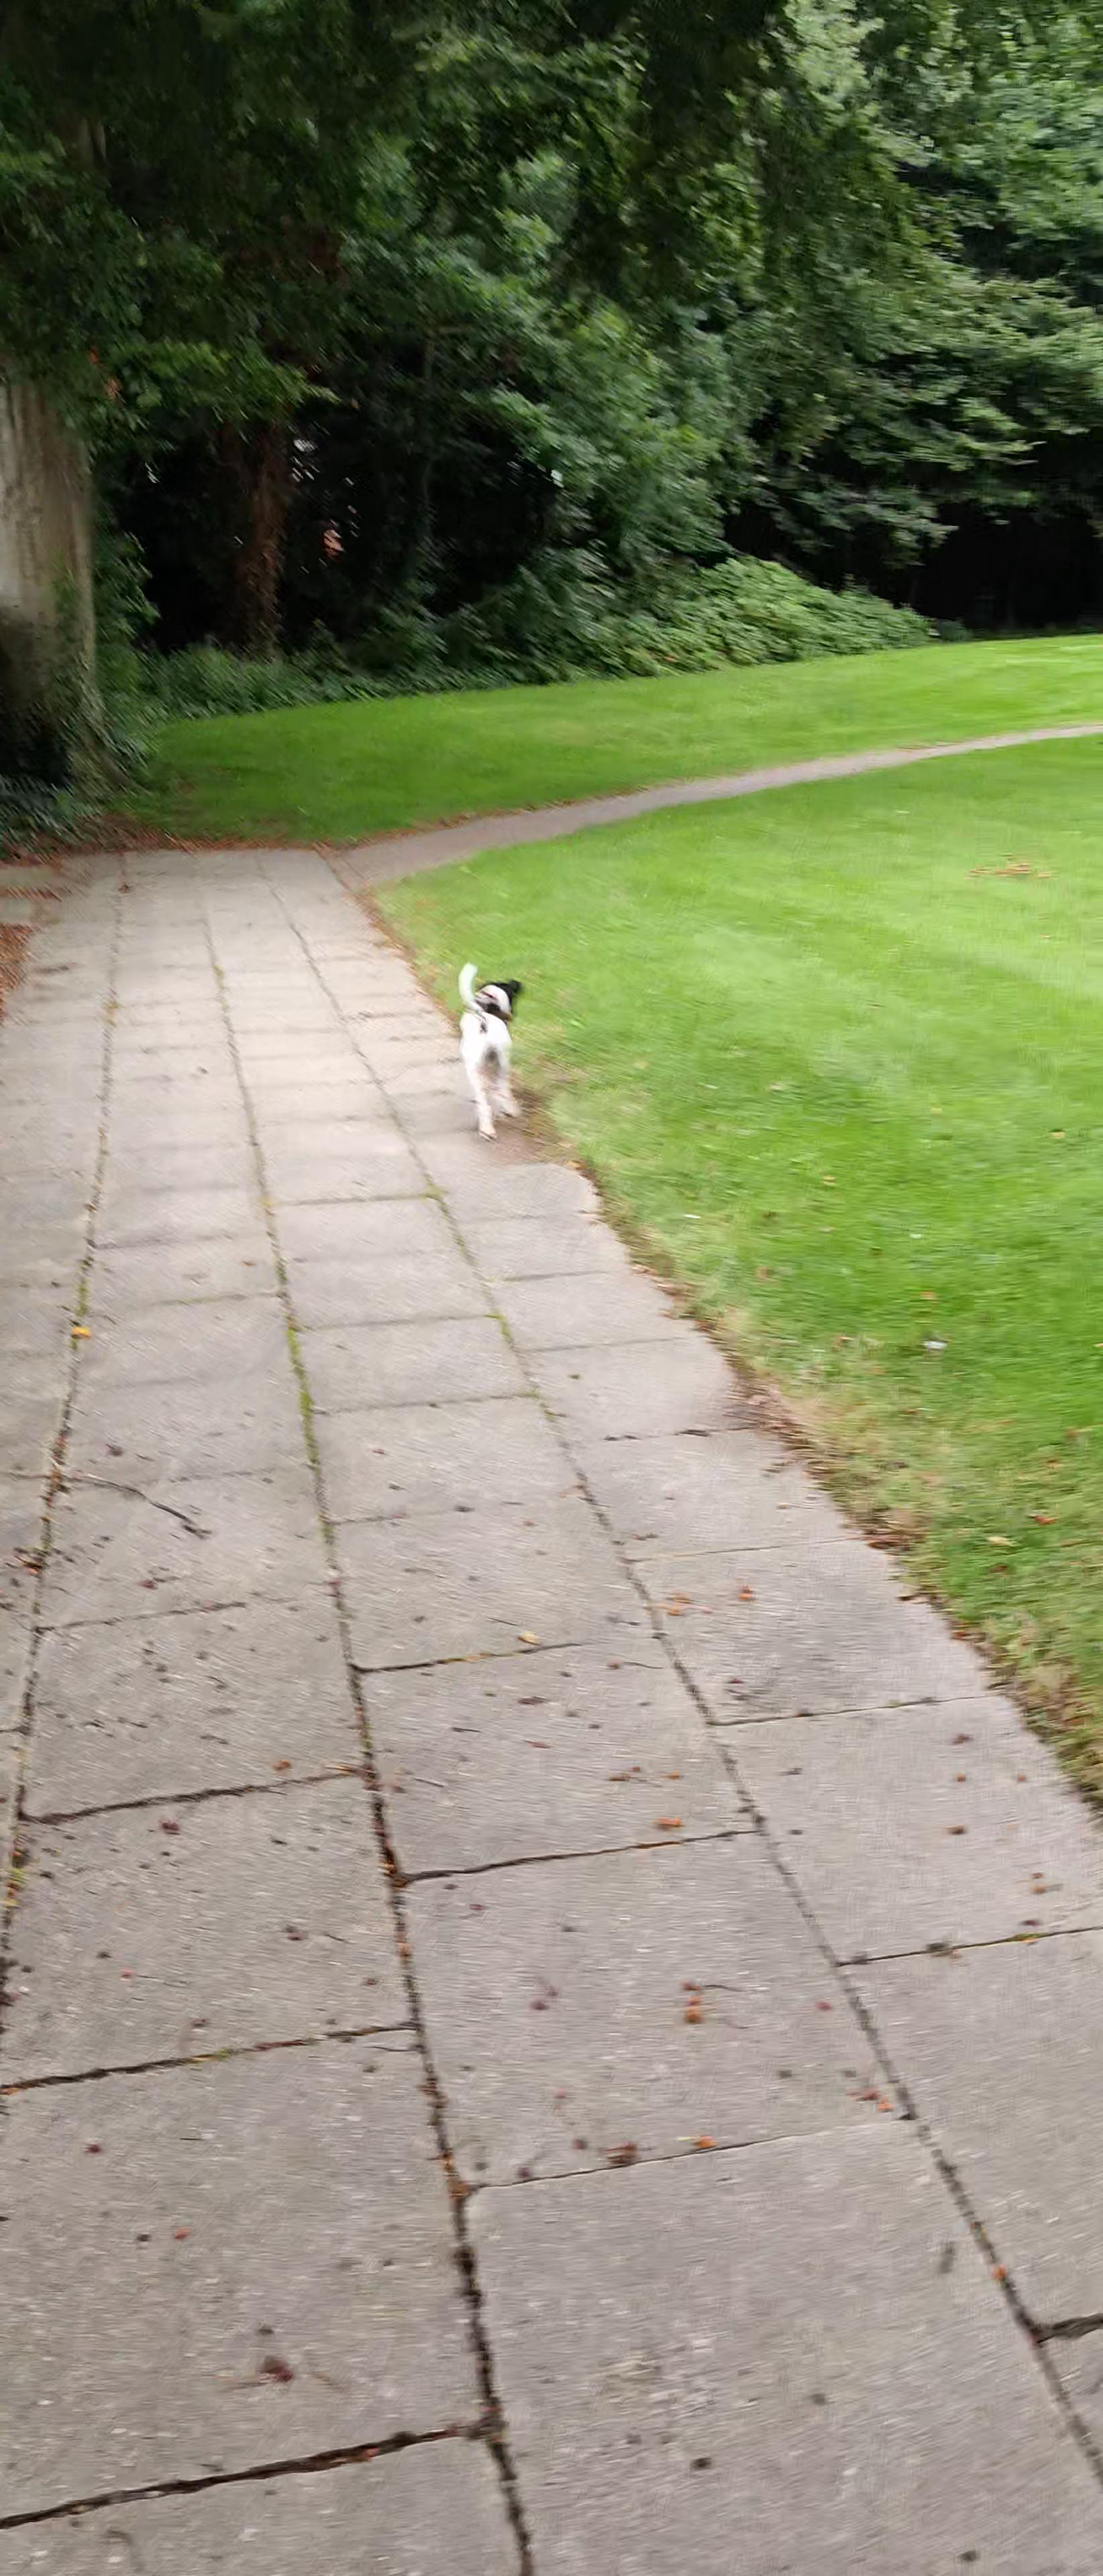Dog: (439, 953, 547, 1153)
